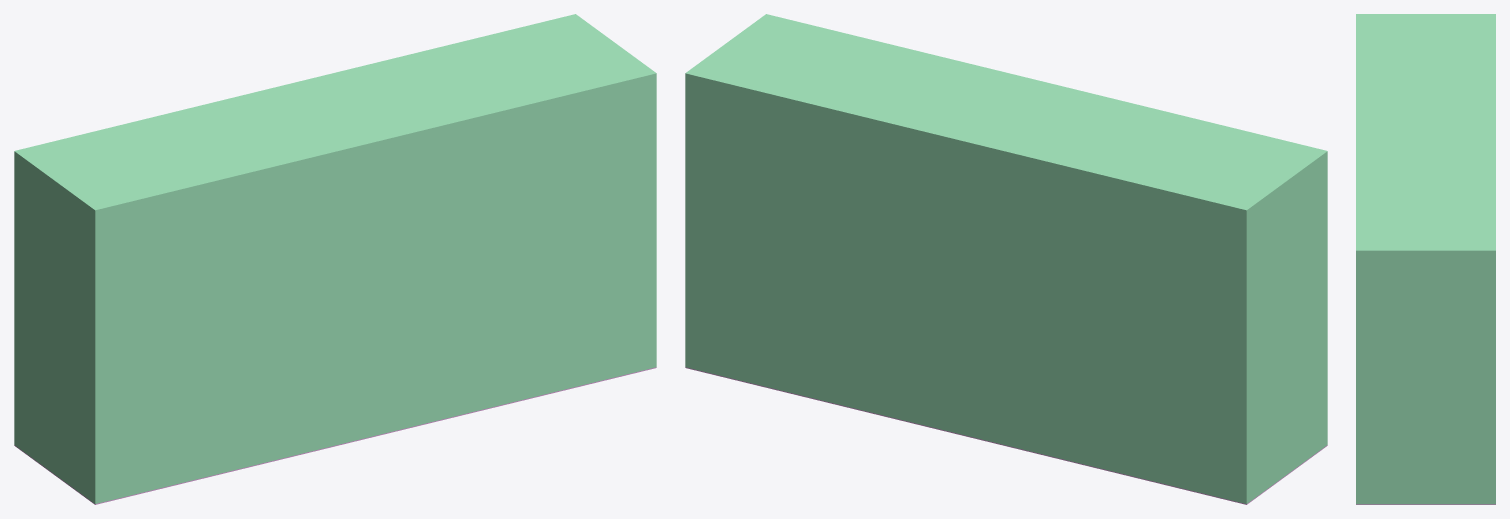
Rendered from hblock-quadwall.glb.
3 renders of one model, left to right at view 1: azimuth 30°, elevation 25°; view 2: azimuth 150°, elevation 25°; view 3: azimuth 270°, elevation 25°, orthographic. The views are drawn at different scales.
Parts seen in each view (by area): view 1: S5|SM_HescoBarrier_Tall_Stage5_01a#0, S5|SM_HescoBarrier_Tall_Stage5_01a#3, S5|SM_HescoBarrier_Tall_Stage5_01a#1, S5|SM_HescoBarrier_Tall_Stage5_01a#2; view 2: S5|SM_HescoBarrier_Tall_Stage5_01a#0, S5|SM_HescoBarrier_Tall_Stage5_01a#3, S5|SM_HescoBarrier_Tall_Stage5_01a#1, S5|SM_HescoBarrier_Tall_Stage5_01a#2; view 3: S5|SM_HescoBarrier_Tall_Stage5_01a#3, S5|SM_HescoBarrier_Tall_Stage5_01a#1, S5|SM_HescoBarrier_Tall_Stage5_01a#2, S5|SM_HescoBarrier_Tall_Stage5_01a#0.
Part boxes in pixels (x1,y1,x2,y2): S5|SM_HescoBarrier_Tall_Stage5_01a#0: (14, 117, 235, 503); S5|SM_HescoBarrier_Tall_Stage5_01a#3: (435, 14, 656, 401); S5|SM_HescoBarrier_Tall_Stage5_01a#1: (155, 82, 375, 469); S5|SM_HescoBarrier_Tall_Stage5_01a#2: (295, 48, 516, 435); S5|SM_HescoBarrier_Tall_Stage5_01a#0: (1106, 117, 1327, 503); S5|SM_HescoBarrier_Tall_Stage5_01a#3: (685, 14, 906, 401); S5|SM_HescoBarrier_Tall_Stage5_01a#1: (966, 82, 1186, 469); S5|SM_HescoBarrier_Tall_Stage5_01a#2: (825, 48, 1046, 435); S5|SM_HescoBarrier_Tall_Stage5_01a#3: (1356, 191, 1495, 504); S5|SM_HescoBarrier_Tall_Stage5_01a#1: (1356, 73, 1495, 132); S5|SM_HescoBarrier_Tall_Stage5_01a#2: (1356, 132, 1495, 191); S5|SM_HescoBarrier_Tall_Stage5_01a#0: (1356, 14, 1495, 72).
Bounding box in the file's own units: 6 × 3.01 × 1.5.
